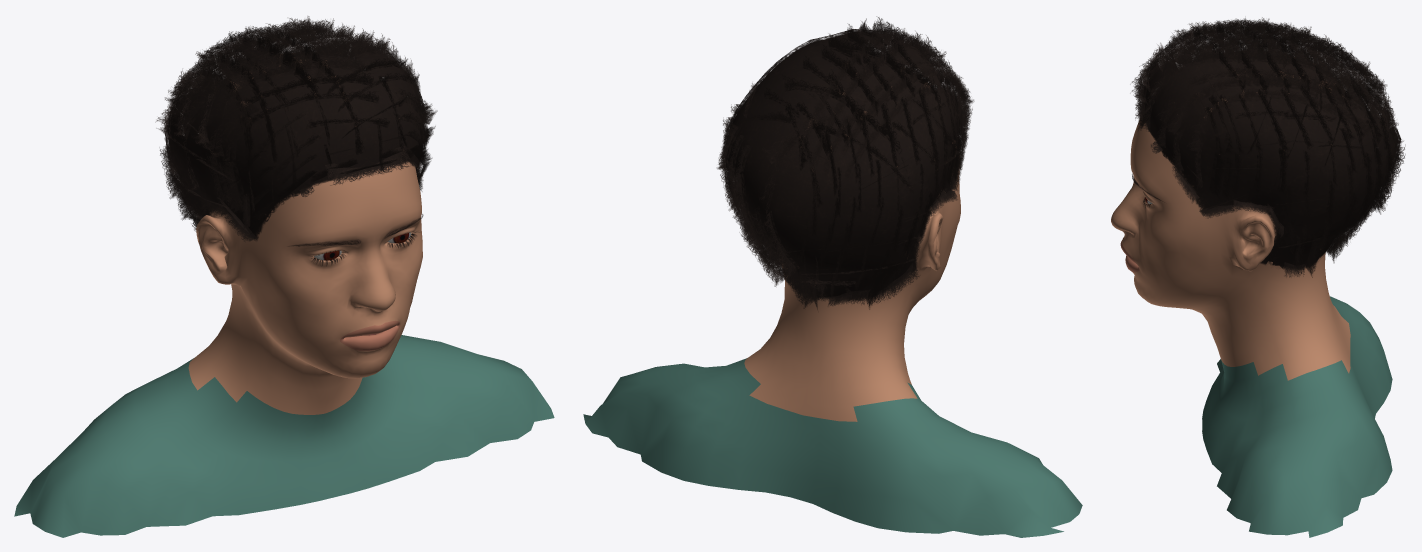
The model's file is neutral-09.glb.
The picture shows the model from 3 angles, left to right: view 1: azimuth 30°, elevation 25°; view 2: azimuth 150°, elevation 25°; view 3: azimuth 270°, elevation 25°; orthographic projection. The views are drawn at different scales.
Visible parts, largest first — view 1: mpfb-face, mpfb-face.afro01; view 2: mpfb-face, mpfb-face.afro01; view 3: mpfb-face, mpfb-face.afro01.
Part boxes in pixels (left/top/right/bottom): mpfb-face: left=14, top=60, right=554, bottom=537; mpfb-face.afro01: left=155, top=16, right=437, bottom=241; mpfb-face: left=583, top=85, right=1082, bottom=537; mpfb-face.afro01: left=717, top=16, right=974, bottom=309; mpfb-face: left=1111, top=77, right=1392, bottom=537; mpfb-face.afro01: left=1130, top=17, right=1405, bottom=277.
Size of the model in its own units: 0.4386 by 0.3581 by 0.2434.
9 materials, 6 textured.
